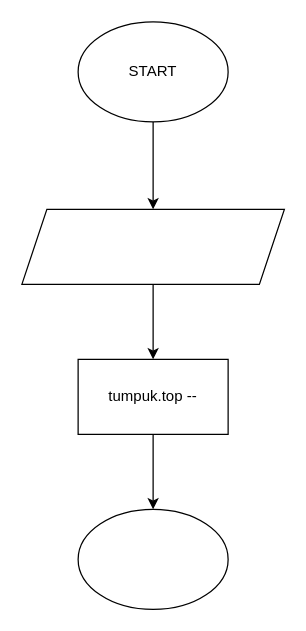
Some shapes in this 306 by 631 pixel diagram are drawn without their labels. Here are the shapes that lost their labels. From the top down, the centre of each, then its label:
pixel 152 246: out "Data yang terambil = ", tumpuk.data[tumpuk.top]
pixel 152 558: END
